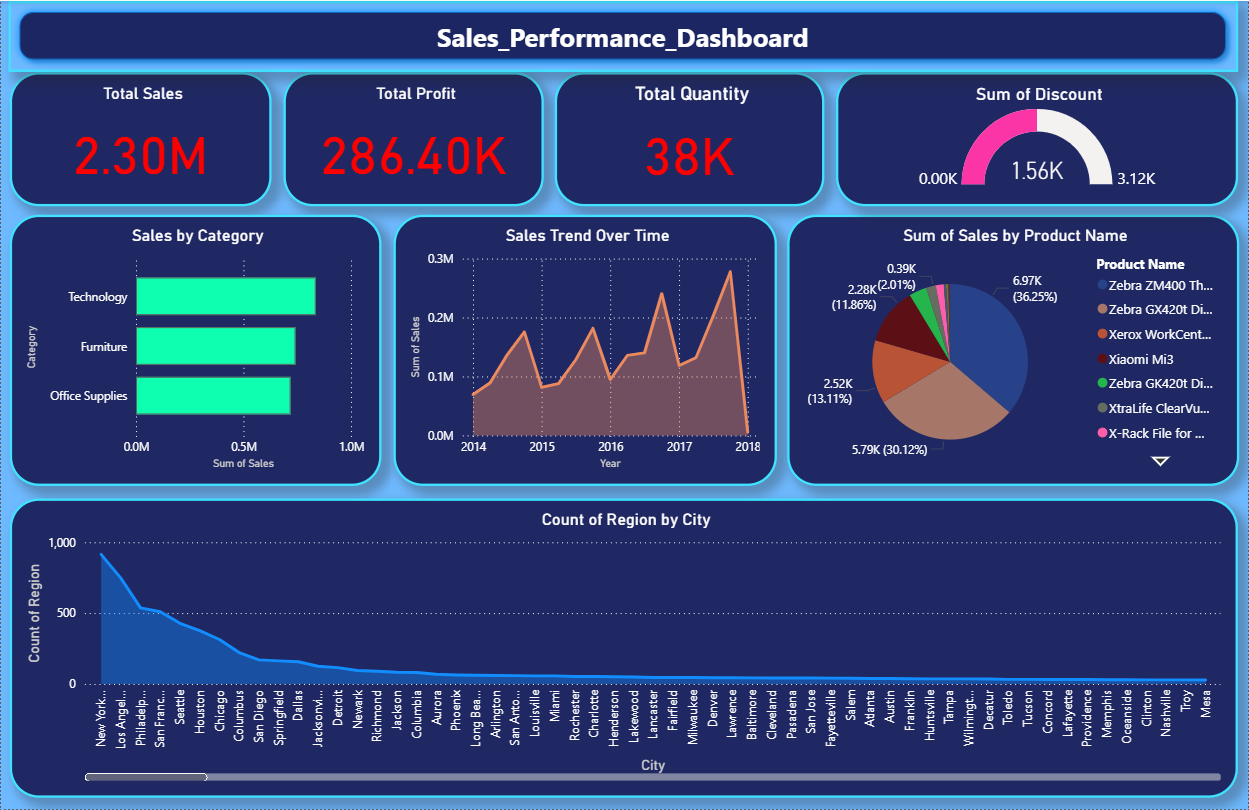

The dashboard page shown, as its layout file describes it:
{"tool":"powerbi","page":{"name":"Page 1","canvas":[1280,830],"ordinal":0},"visuals":[{"type":"card","title":"Total Sales","fields":{"Values":["Sum(Superstore.Sales)"]},"box":[9.6,72.7,269,137.2],"z":0},{"type":"card","title":"Total Profit","fields":{"Values":["Sum(Superstore.Profit)"]},"box":[289.5,72.7,267.6,137.2],"z":1000},{"type":"card","title":"Total Quantity","fields":{"Values":["Sum(Superstore.Quantity)"]},"box":[568.1,72.7,277.2,137.2],"z":2000},{"type":"barChart","title":"Sales by Category","fields":{"Category":["Superstore.Category"],"Y":["Sum(Superstore.Sales)"]},"box":[9.6,219.6,381.5,278.6],"z":3000},{"type":"lineChart","title":"Sales Trend Over Time","fields":{"Category":["Superstore.Ship Date.Variation.Date Hierarchy.Year","Superstore.Ship Date.Variation.Date Hierarchy.Quarter","Superstore.Ship Date.Variation.Date Hierarchy.Month","Superstore.Ship Date.Variation.Date Hierarchy.Day"],"Y":["Sum(Superstore.Sales)"]},"box":[403.4,219.6,393.8,278.6],"z":4000},{"type":"pieChart","fields":{"Category":["Superstore.Product Name"],"Y":["Sum(Superstore.Sales)"]},"box":[806.9,219.6,463.8,278.6],"z":5000},{"type":"gauge","fields":{"Y":["Sum(Superstore.Discount)"]},"box":[857.6,72.7,413,137.2],"z":6000},{"type":"areaChart","fields":{"Category":["Superstore.City"],"Y":["CountNonNull(Superstore.Region)"]},"box":[9.6,510.5,1261.1,307.4],"z":7000},{"type":"shape","box":[8.2,0,1262.4,72.7],"z":7001}]}

Visuals, with their boxes in screenshot pixels (x1, y1, x2, y2), scaled from the page's 1280x830 canvas onto the 1249x810 screenshot:
"Total Sales" card: 9, 71, 272, 205
"Total Profit" card: 282, 71, 544, 205
"Total Quantity" card: 554, 71, 825, 205
"Sales by Category" barChart: 9, 214, 382, 486
"Sales Trend Over Time" lineChart: 394, 214, 778, 486
pieChart - Superstore.Product Name x Sum(Superstore.Sales): 787, 214, 1240, 486
gauge - Sum(Superstore.Discount): 837, 71, 1240, 205
areaChart - Superstore.City x CountNonNull(Superstore.Region): 9, 498, 1240, 798
shape: 8, 0, 1240, 71
